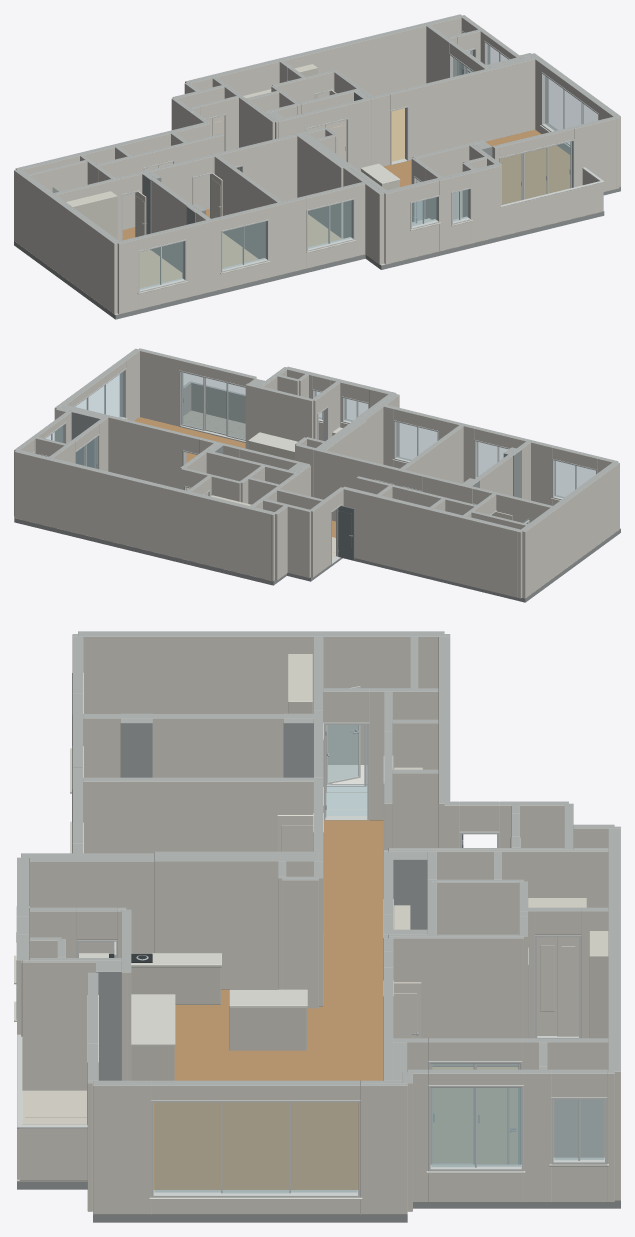
Rendered from 168c_expanded_stage1.glb.
The picture shows the model from 3 angles, top to bottom: view 1: azimuth 30°, elevation 25°; view 2: azimuth 150°, elevation 25°; view 3: azimuth 270°, elevation 25°; orthographic projection. The views are drawn at different scales.
Parts seen in each view (by area): view 1: wall_34, wall_16, wall_6, wall_1, wall_13, wall_17, wall_10, floor_living_kitchen, wall_22, wall_14, floor_structural_slab, wall_12 (+39 smaller); view 2: wall_6, wall_2, wall_1, wall_34, wall_17, wall_16, wall_10, wall_40, floor_structural_slab, wall_19, wall_4, wall_9 (+38 smaller); view 3: floor_living_kitchen, wall_1, wall_9, window_6, wall_19, wall_14, wall_7, wall_33, wall_18, wall_42, window_8, wall_35 (+51 smaller).
Part boxes in pixels (x1,y1,x2,y2): wall_34: [275, 57, 535, 170]; wall_16: [117, 182, 365, 314]; wall_6: [185, 14, 463, 97]; wall_1: [14, 169, 120, 313]; wall_13: [382, 163, 500, 264]; wall_17: [54, 127, 326, 240]; wall_10: [492, 116, 619, 191]; floor_living_kitchen: [122, 129, 570, 240]; wall_22: [96, 133, 224, 229]; wall_14: [296, 132, 351, 238]; floor_structural_slab: [14, 187, 620, 319]; wall_12: [500, 182, 603, 235]; wall_6: [14, 449, 274, 580]; wall_2: [342, 486, 522, 598]; wall_1: [520, 461, 619, 598]; wall_34: [64, 405, 309, 488]; wall_17: [295, 444, 552, 523]; wall_16: [383, 404, 618, 505]; wall_10: [139, 348, 256, 426]; wall_40: [245, 383, 313, 449]; floor_structural_slab: [14, 518, 620, 602]; wall_19: [400, 425, 463, 483]; wall_4: [261, 498, 310, 577]; wall_9: [54, 348, 140, 440]; floor_living_kitchen: [153, 820, 383, 1189]; wall_1: [78, 631, 444, 764]; wall_9: [93, 1080, 407, 1214]; window_6: [149, 1100, 362, 1200]; wall_19: [83, 777, 313, 853]; wall_14: [154, 851, 318, 989]; wall_7: [407, 1069, 614, 1201]; wall_33: [388, 934, 523, 1066]; wall_18: [83, 714, 313, 777]; wall_42: [21, 958, 121, 1090]; window_8: [426, 1085, 525, 1173]; wall_35: [393, 1038, 608, 1157].
Size of the model in its own units: 20.56 by 2.88 by 11.56.
